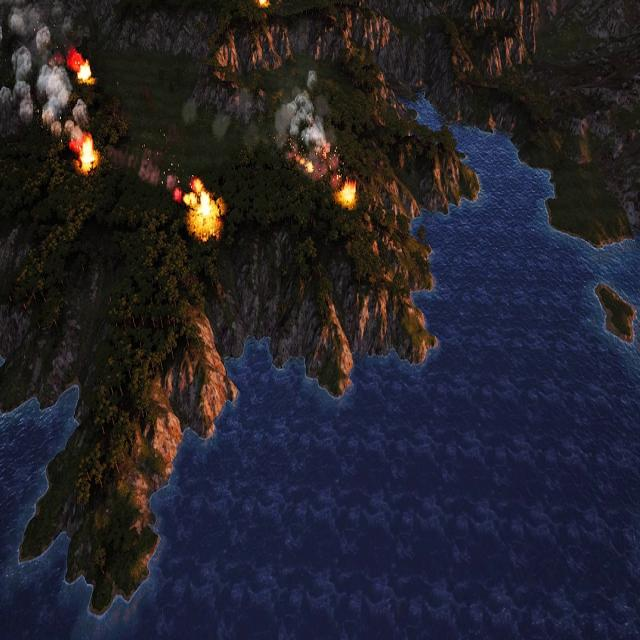fire: (180, 174, 222, 232), (289, 145, 336, 176), (68, 139, 100, 171), (68, 50, 96, 84), (336, 182, 358, 211)
smoke: (0, 0, 96, 142), (276, 70, 336, 150)
